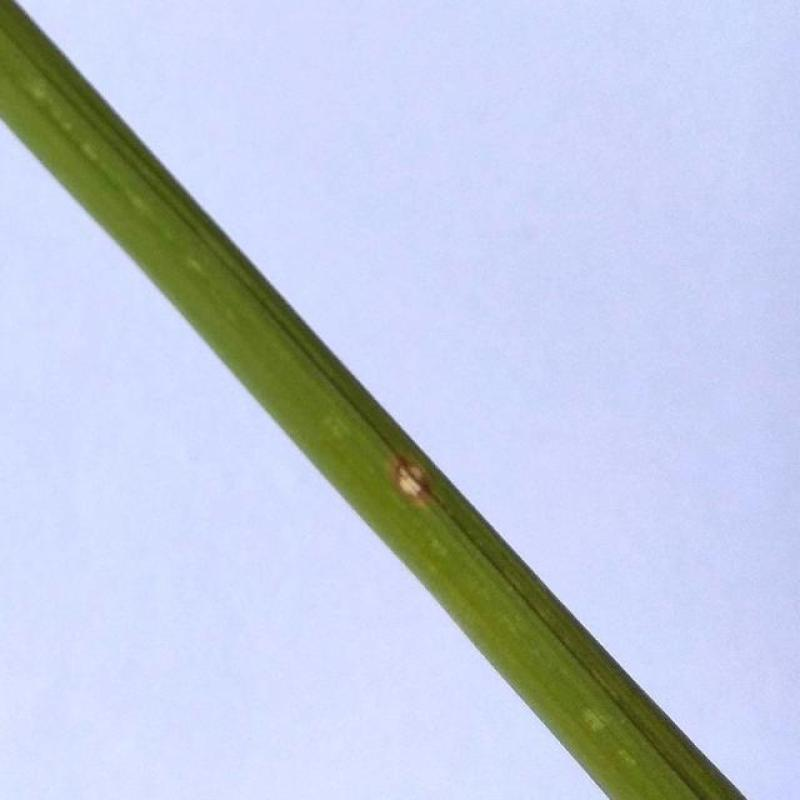Leaf_Blast: (359, 424, 471, 548)
